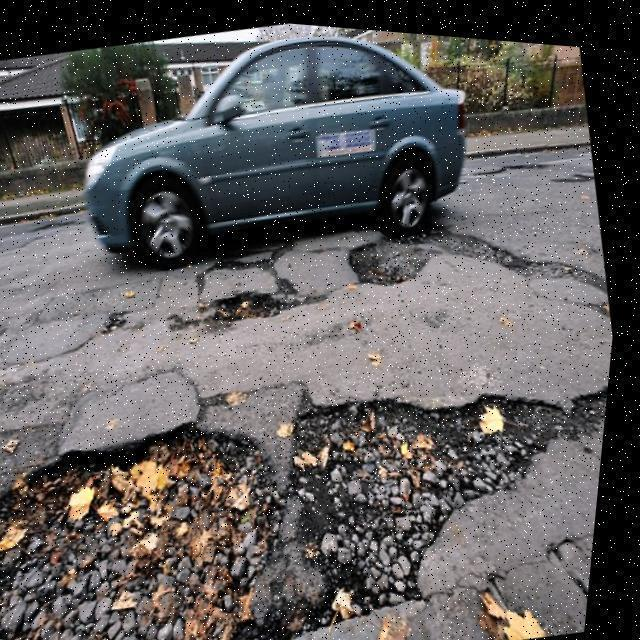Pothole: (0, 375, 609, 640), (330, 215, 611, 320), (194, 279, 330, 327)
